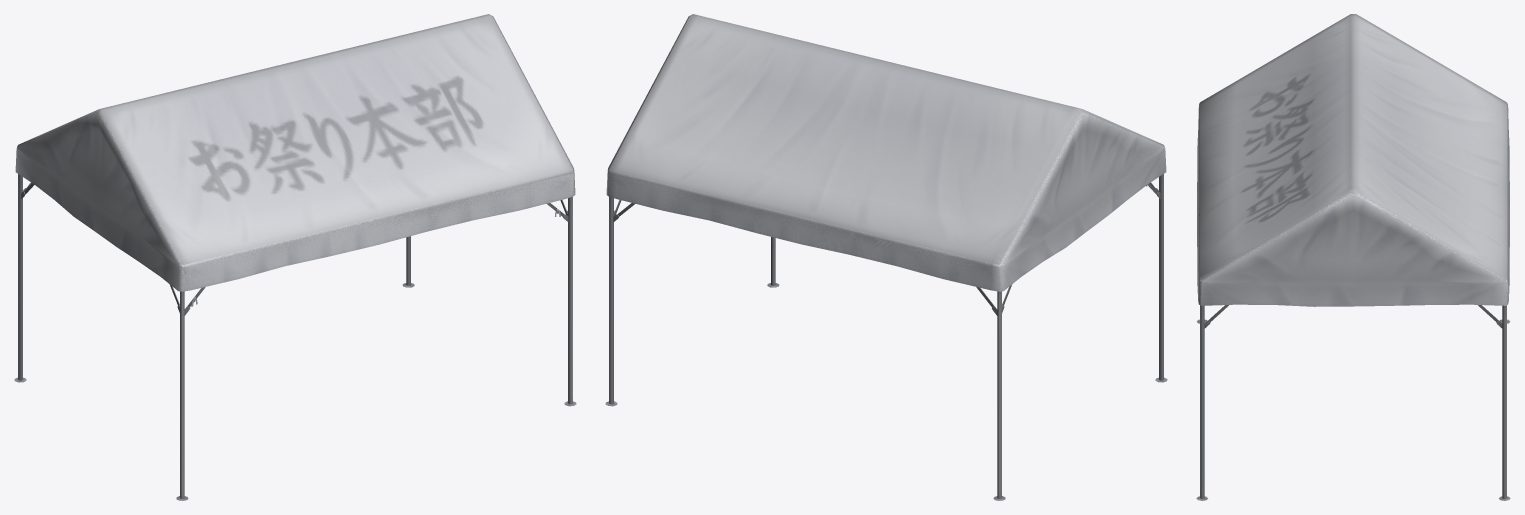
File: jsf_Tent_01.fbx
3 renders of one model, left to right at view 1: azimuth 30°, elevation 25°; view 2: azimuth 150°, elevation 25°; view 3: azimuth 270°, elevation 25°, orthographic. The views are drawn at different scales.
Parts seen in each view (by area): view 1: jsf_Tent_01; view 2: jsf_Tent_01; view 3: jsf_Tent_01.
Part boxes in pixels (box(x1,y1,x2,y2)): jsf_Tent_01: box(14, 14, 576, 500); jsf_Tent_01: box(605, 14, 1167, 500); jsf_Tent_01: box(1196, 14, 1510, 500).
Bounding box in the file's own units: 360 × 283 × 262.
